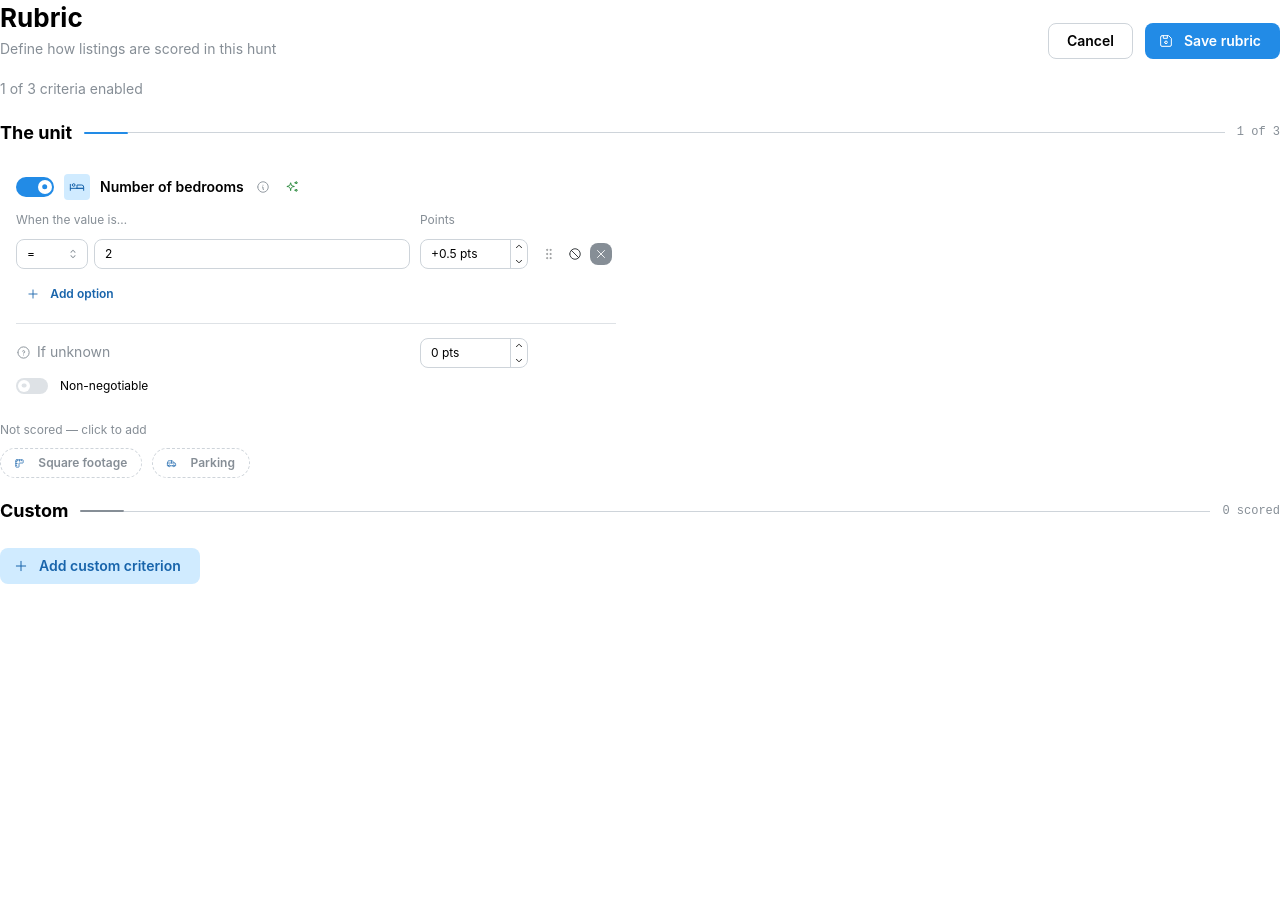
Test: RubricEditor › shows the sticky save bar with per-criterion labels once dirty, and Discard opens the confirm modal
Expected: the text "unsaved change" is not shown
Click the button "Square footage" at [71, 463], box [0,448,142,478]
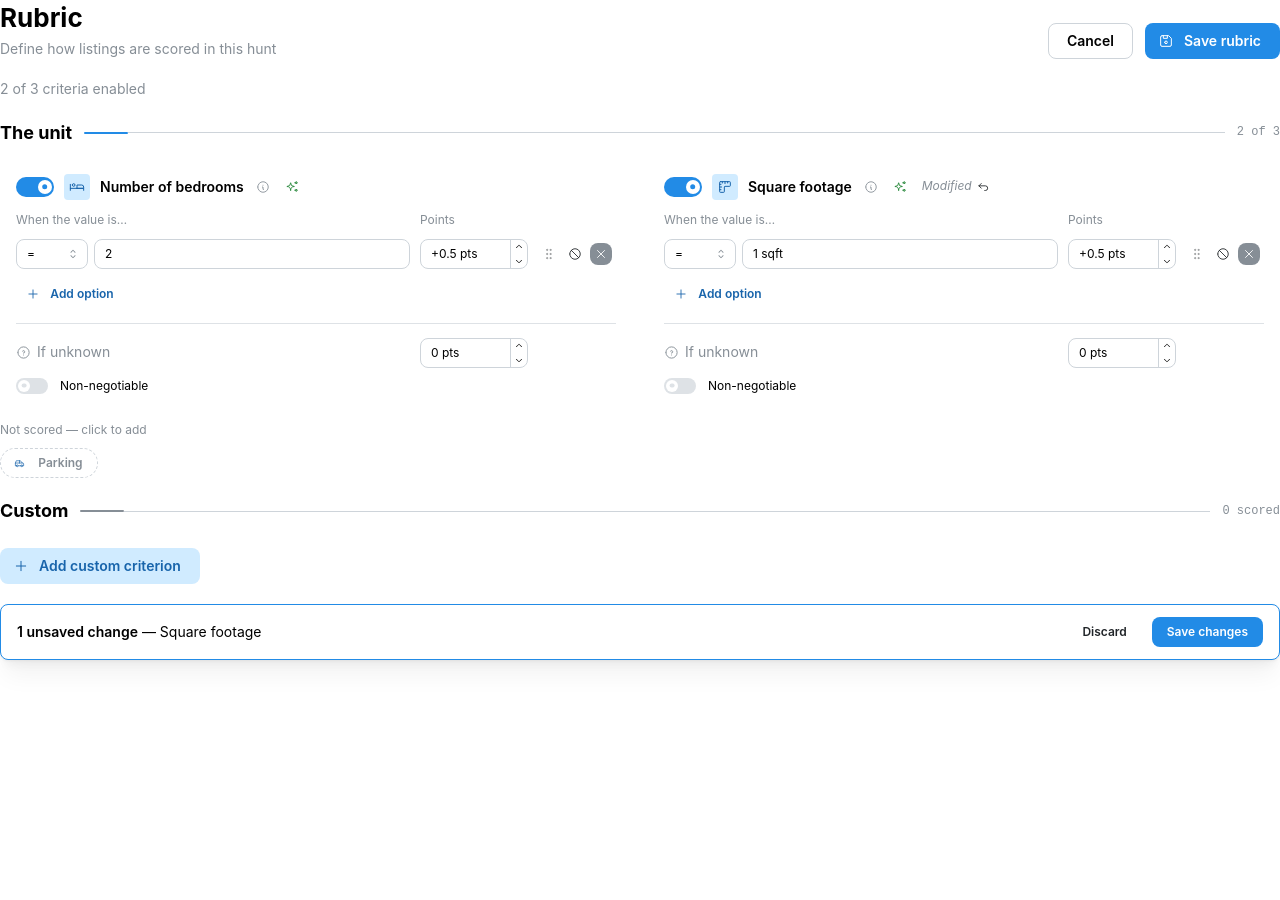
Expected: the text "1 unsaved change" is shown, [17,623,138,640]
Expected: the text "1 unsaved change — Square footage" is shown, [17,622,262,643]
Click the button "Discard" at [1105, 632], box [1067,618,1142,648]
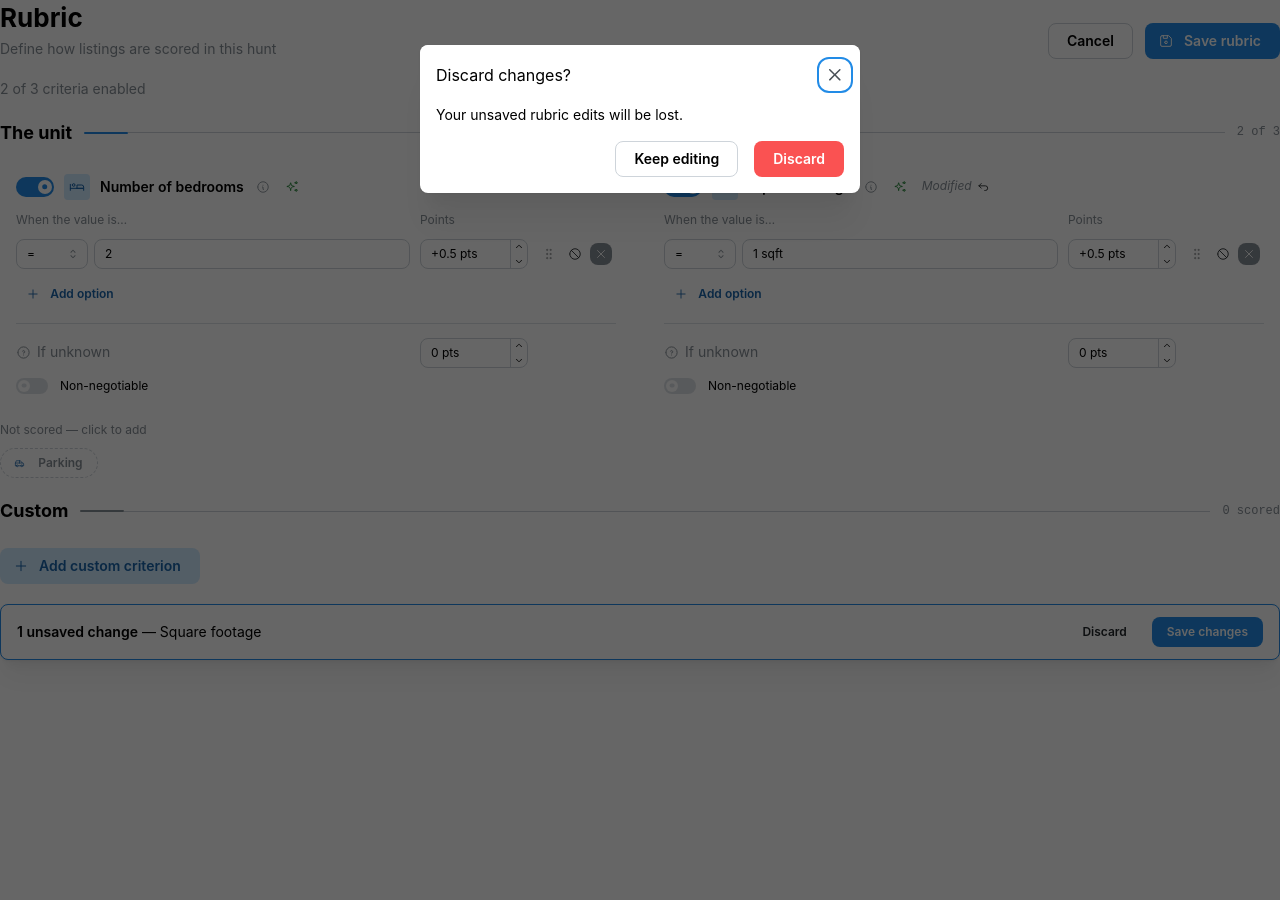
Expected: the dialog "Discard changes?" is shown, [420,45,860,193]
